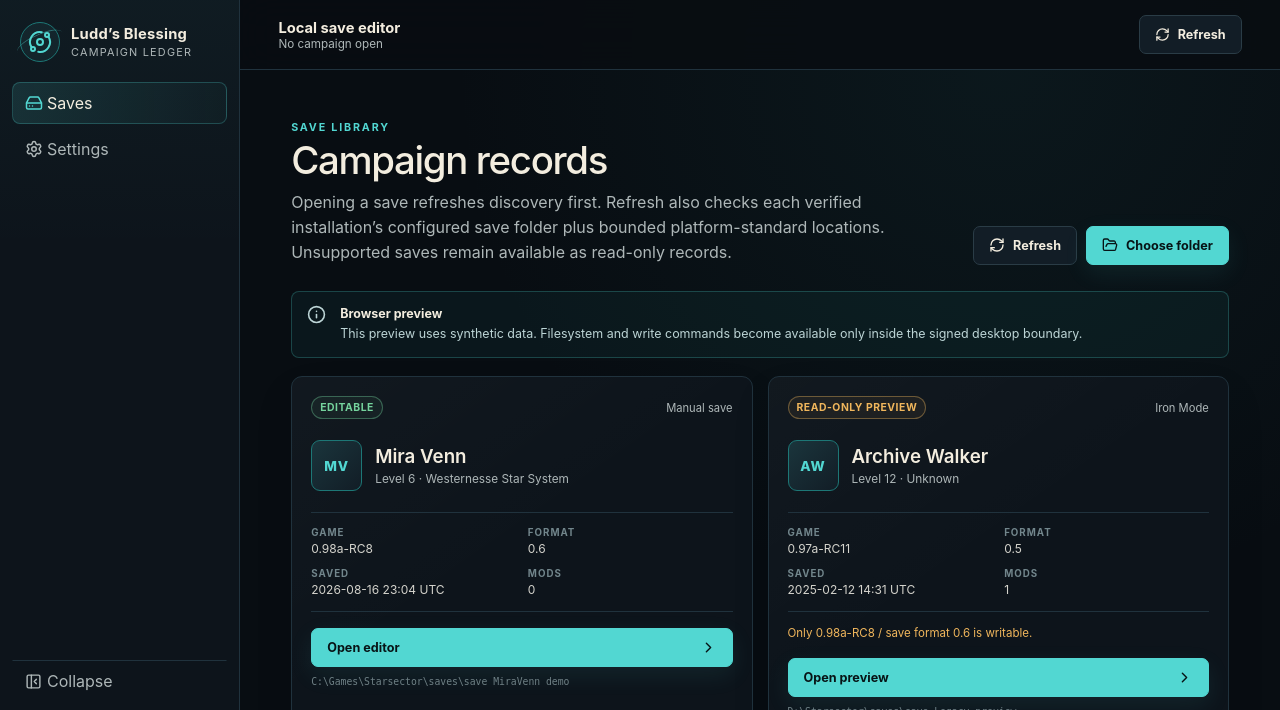
Scenario: Ludd’s Blessing app shell › filters inventory stacks and reviews an existing-stack quantity change
Step 1. Click the button "Open editor" → coordinates (363, 648), box left=311, top=628, right=732, bottom=667
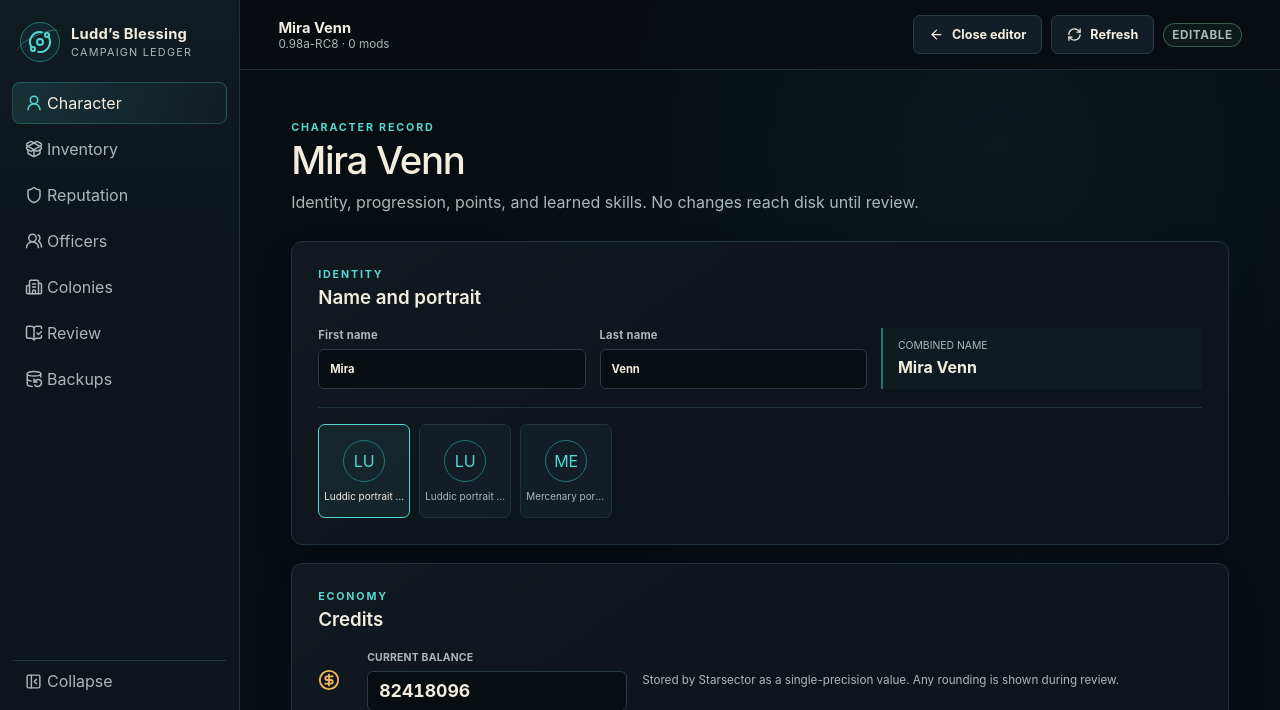
Expected: the heading "Name and portrait" is shown, left=318, top=286, right=481, bottom=309
Step 2. Click the button "Inventory" → coordinates (120, 149), box left=12, top=128, right=227, bottom=170
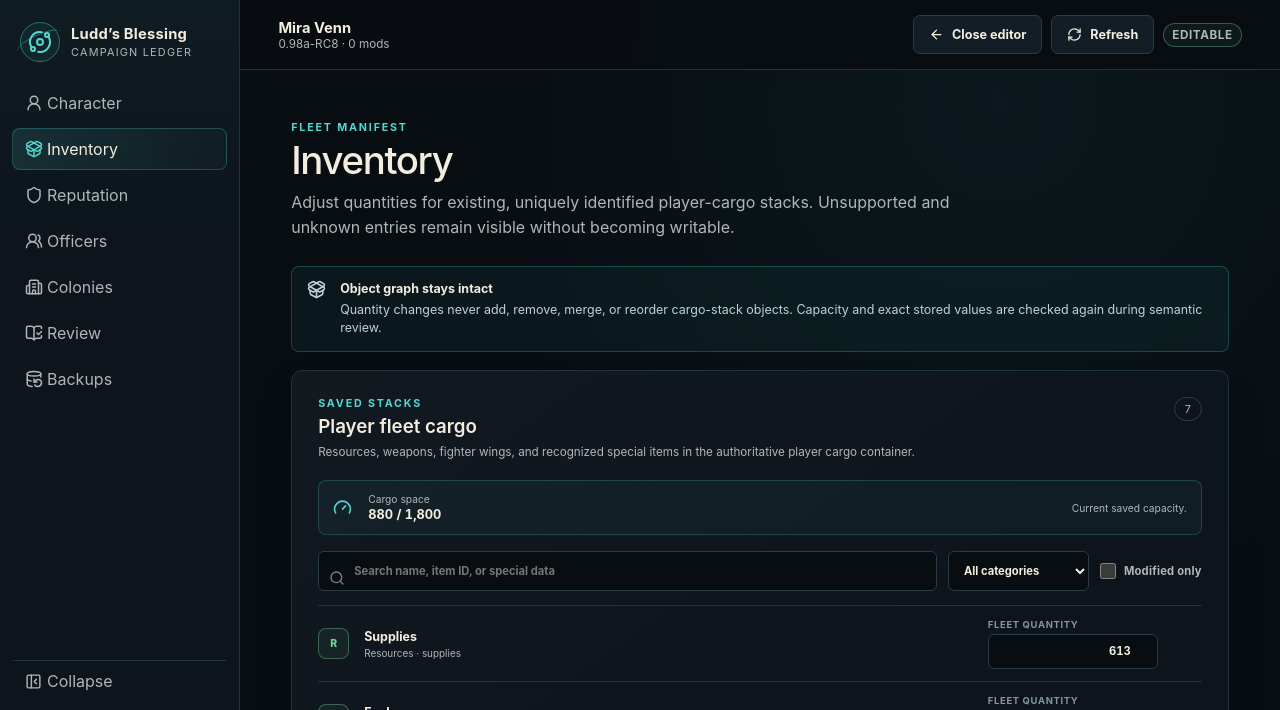
Expected: the heading "Inventory" is shown, left=291, top=137, right=452, bottom=183
Step 3. Select "Weapons" in the dropdown named "Filter cargo category" → coordinates (1018, 572), box left=948, top=552, right=1089, bottom=592
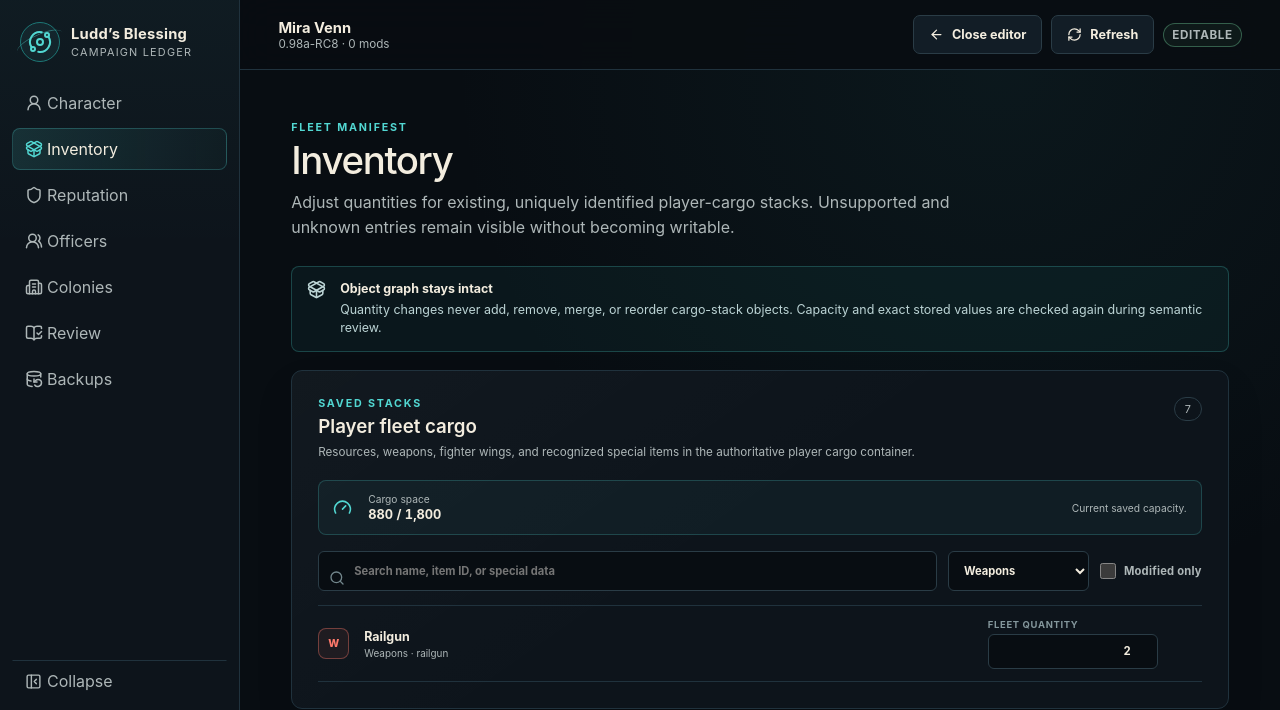
Expected: the number field named "Railgun quantity" is shown
Step 4. Replace the text in the number field named "Railgun quantity" with "3" → coordinates (1073, 652), box left=988, top=634, right=1158, bottom=669
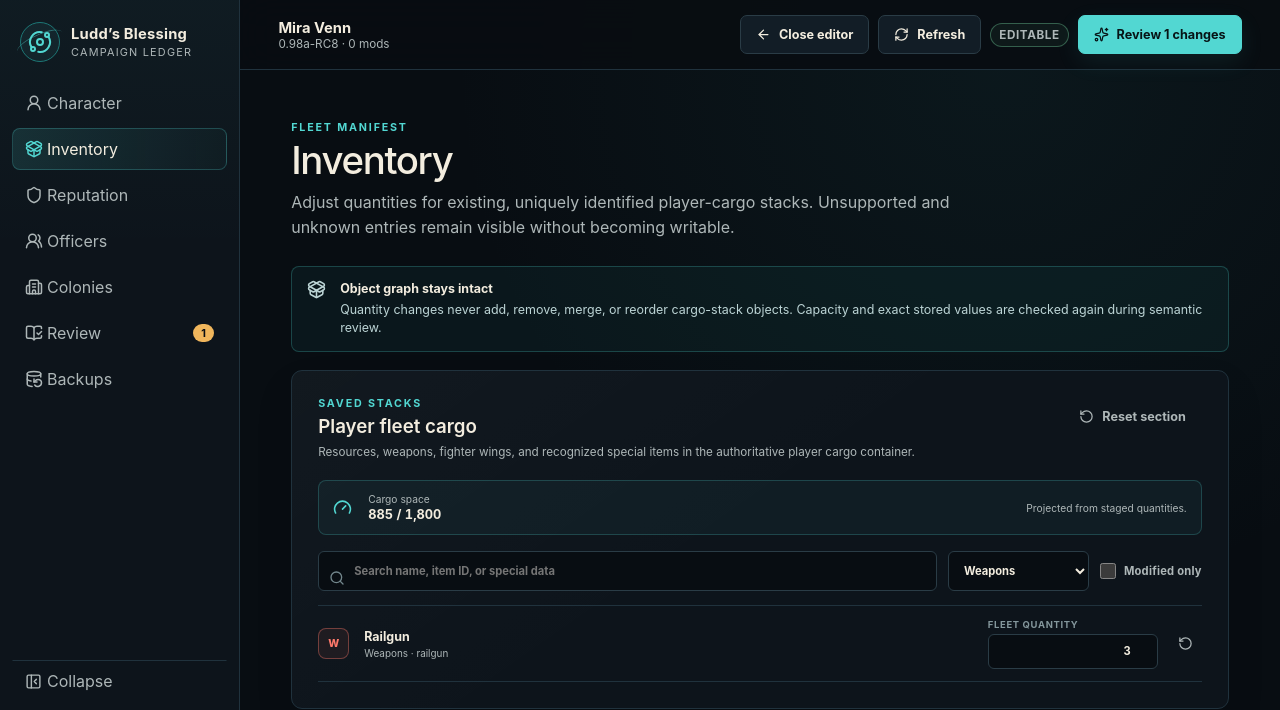
Step 5. Click the button "Review 1 changes" → coordinates (1160, 34), box left=1078, top=15, right=1242, bottom=54
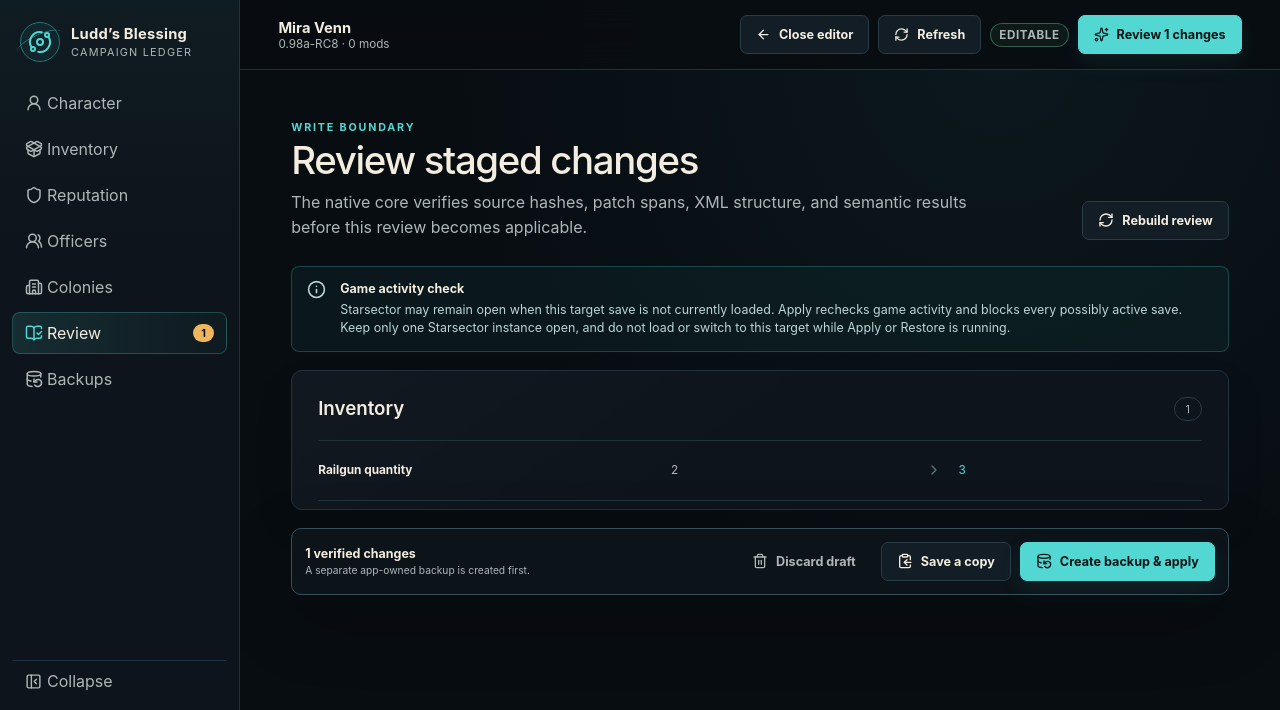
Expected: the heading "Review staged changes" is shown, left=291, top=137, right=698, bottom=183
Expected: the element "Inventory" is shown, left=291, top=370, right=1229, bottom=510
Expected: the text "Railgun quantity" is shown, left=318, top=463, right=412, bottom=477
